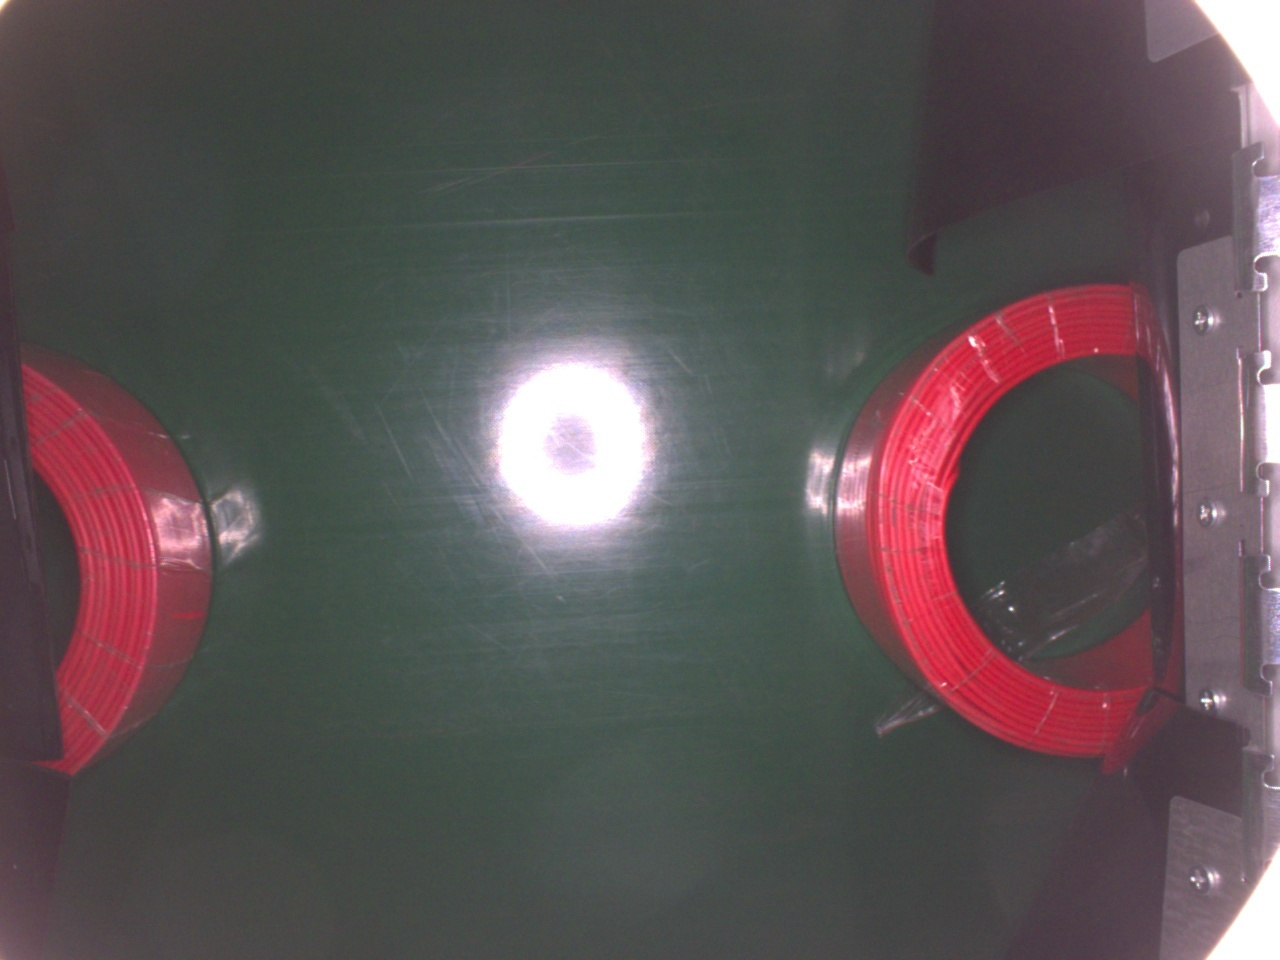red: (838, 271, 1177, 764), (27, 344, 209, 779)
